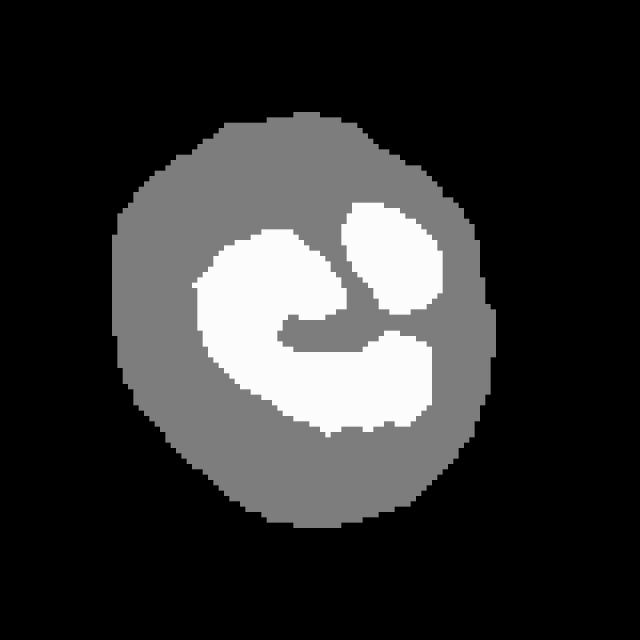WBC: (80, 91, 517, 549)
